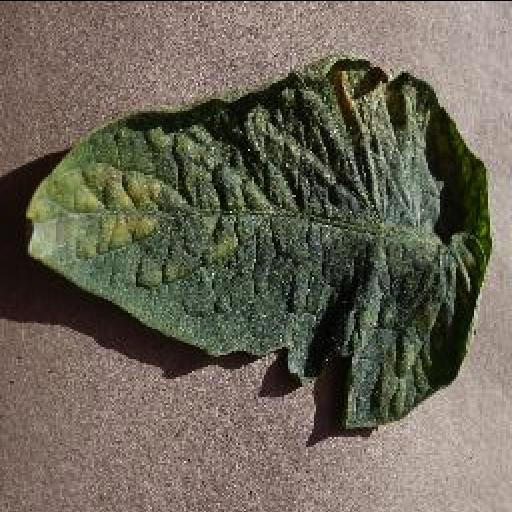disease_tomato: (28, 56, 496, 430)
